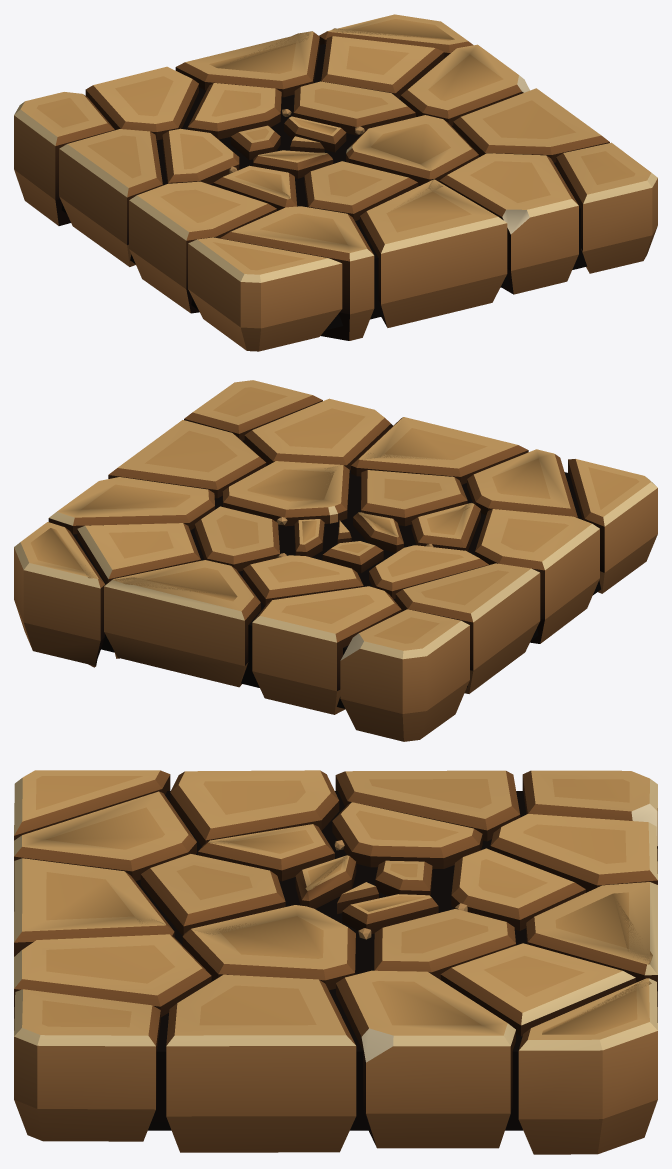
Rendered from crumble_desert.glb.
The picture shows the model from 3 angles, top to bottom: view 1: azimuth 30°, elevation 25°; view 2: azimuth 150°, elevation 25°; view 3: azimuth 270°, elevation 25°; orthographic projection. The views are drawn at different scales.
Parts seen in each view (by area): view 1: crumble_desert; view 2: crumble_desert; view 3: crumble_desert.
Boxes of the visible parts, left/top/right/bottom form: crumble_desert: left=14, top=14, right=657, bottom=351; crumble_desert: left=14, top=380, right=657, bottom=741; crumble_desert: left=14, top=770, right=657, bottom=1154.
Size of the model in its own units: 2.4 by 0.5 by 2.4.
